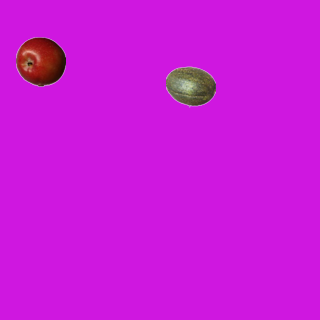Apple Braeburn: (15, 36, 65, 86)
Melon Piel de Sapo: (165, 61, 215, 111)
